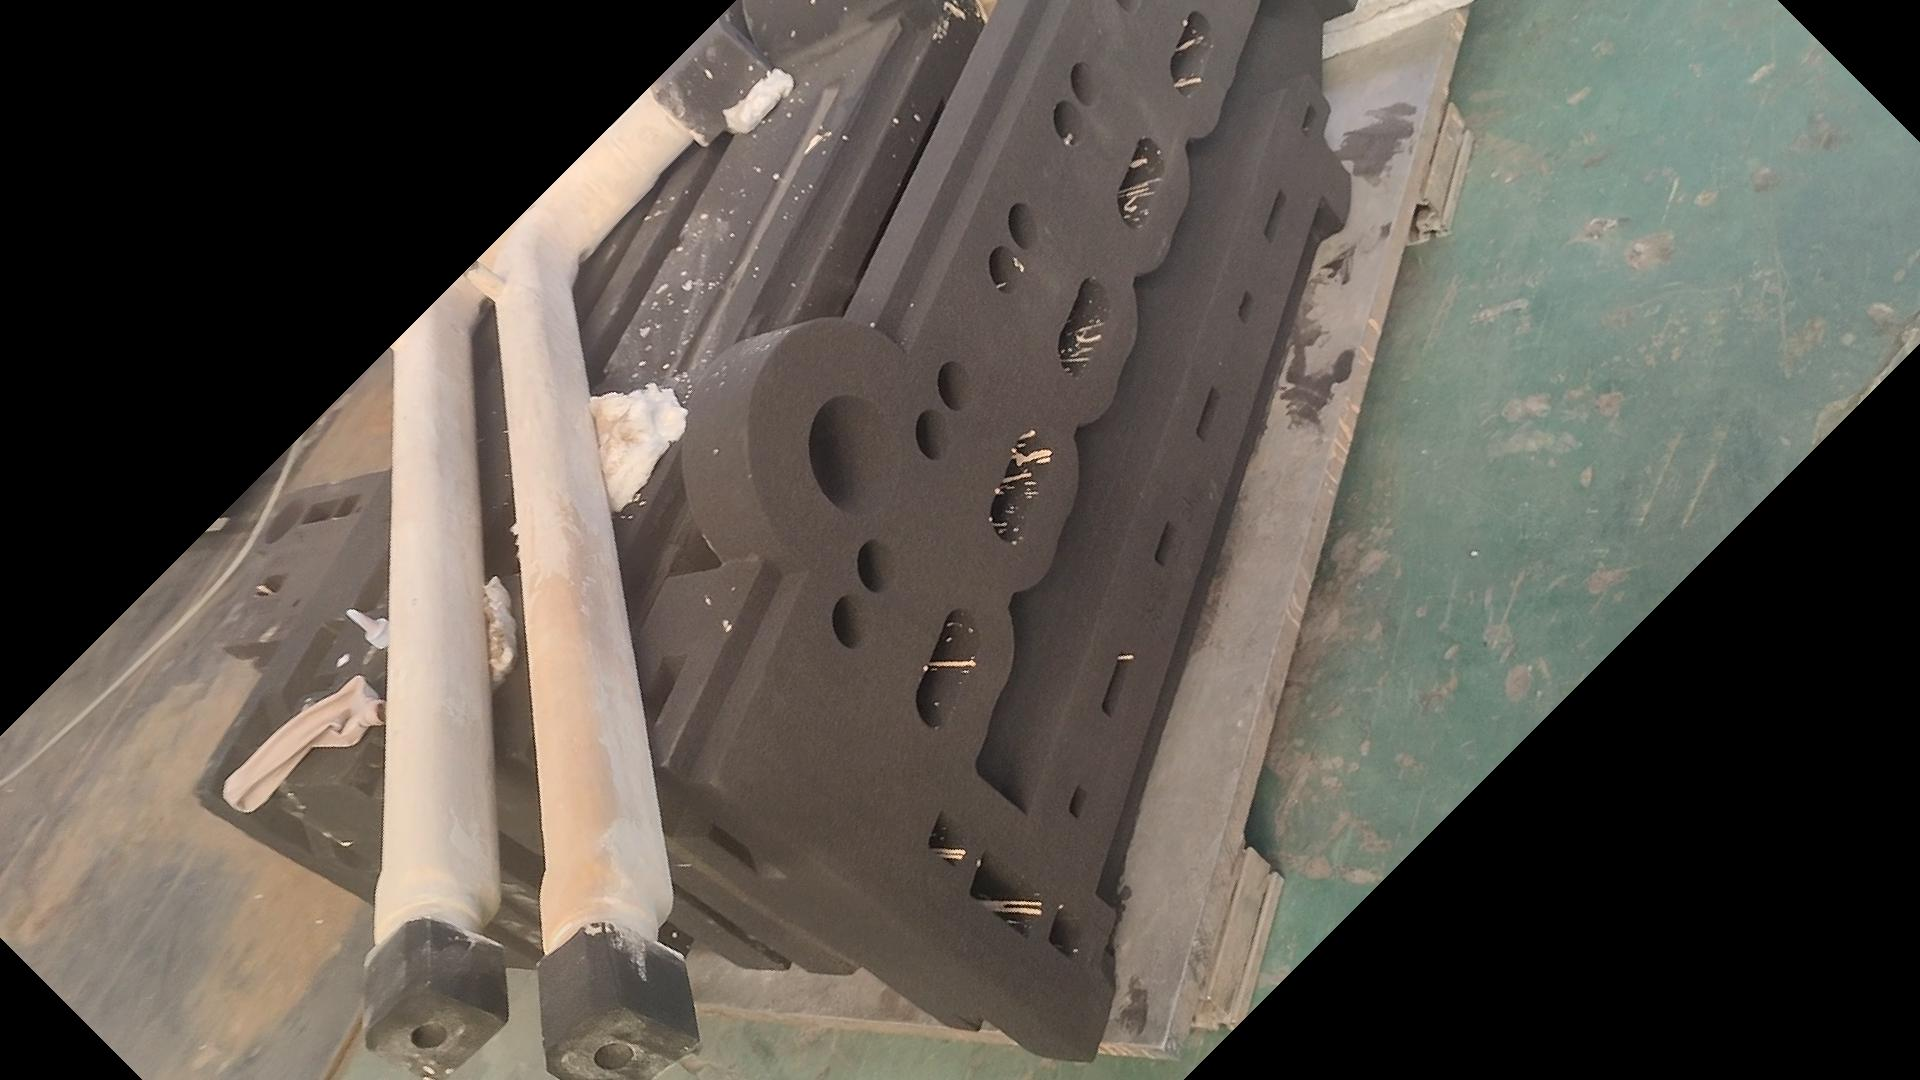pouring hole: (810, 396, 901, 516), (262, 500, 307, 542)
